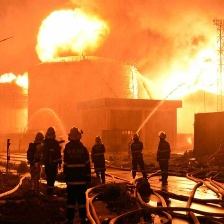fire: (148, 32, 224, 100), (41, 9, 107, 65), (1, 69, 34, 92)
